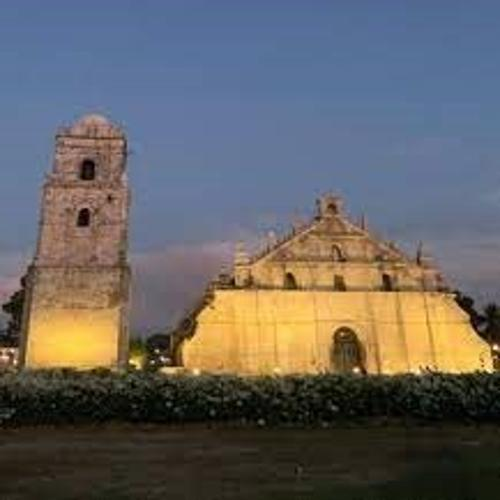Paoay Church: (19, 100, 495, 383)
